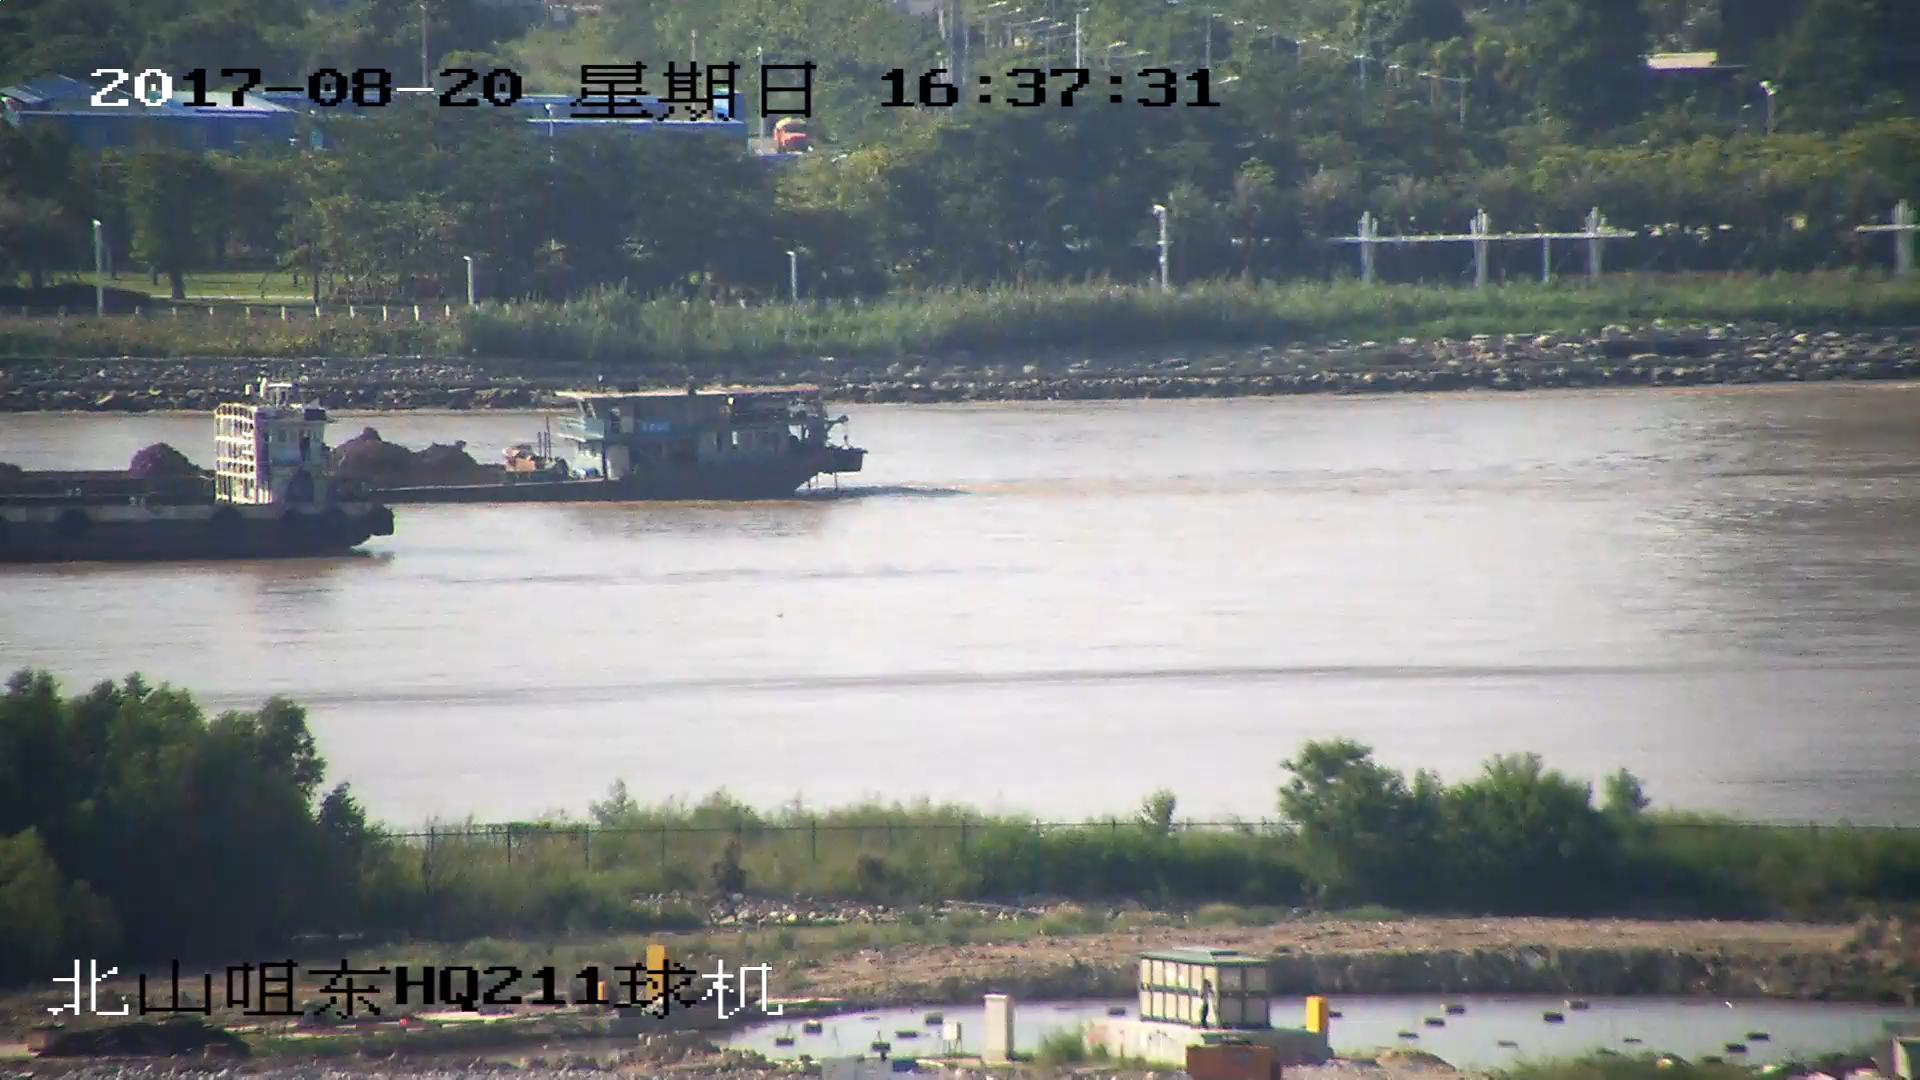Ship: (3, 392, 869, 512), (3, 394, 402, 566)
